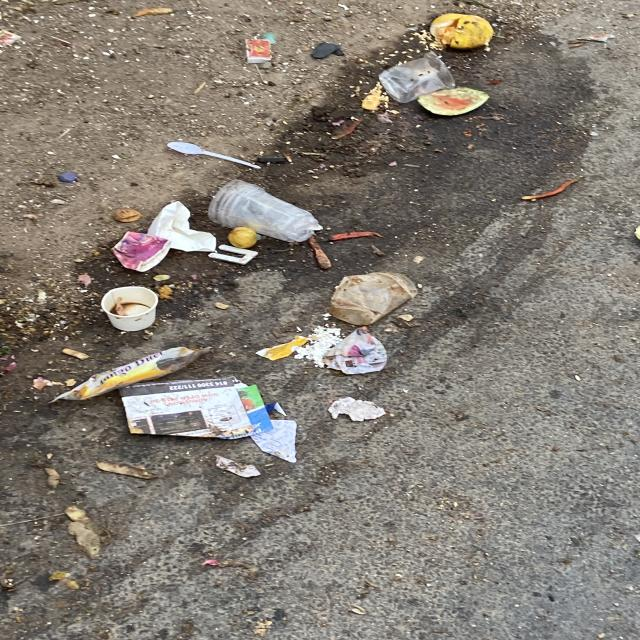giay: (119, 377, 271, 440), (147, 201, 216, 252), (323, 327, 387, 375), (112, 231, 170, 272)
giay_goi: (49, 347, 210, 403)
hop_nhua: (207, 179, 321, 242)
ly_hop_giay: (100, 286, 157, 331), (245, 38, 271, 62)
nhua: (379, 50, 456, 102), (166, 141, 260, 168)
rac_huu_co: (430, 12, 494, 48), (418, 86, 489, 115)
